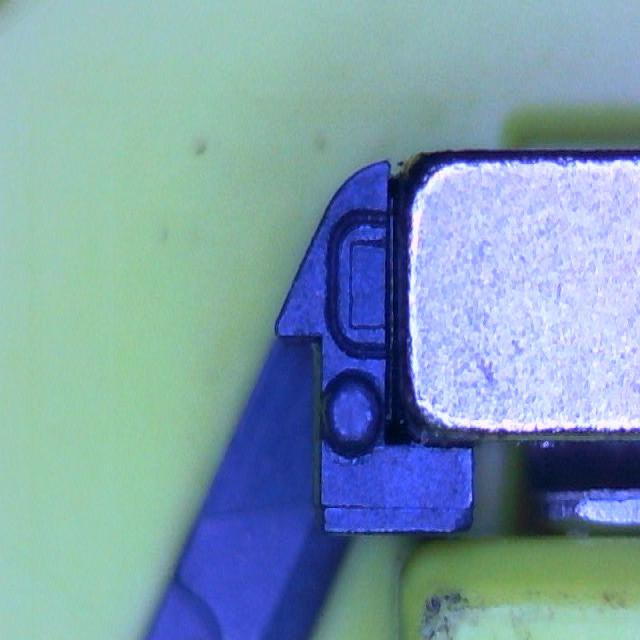noResin: (324, 205, 394, 362)
